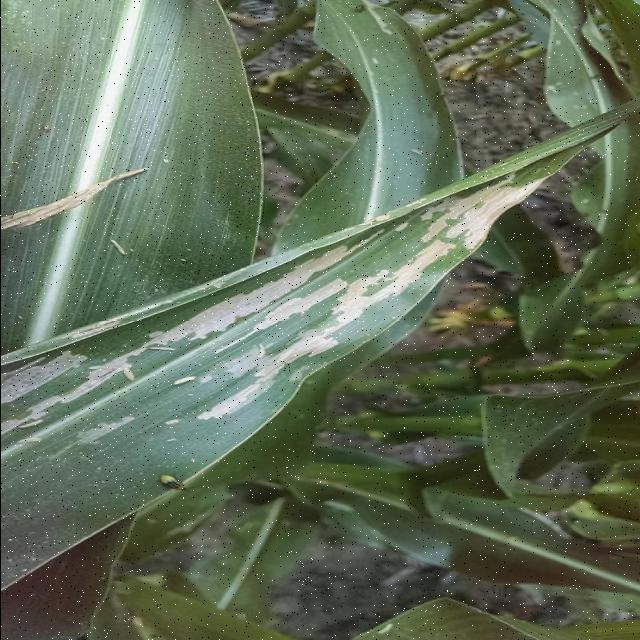trips: (152, 474, 197, 494)
